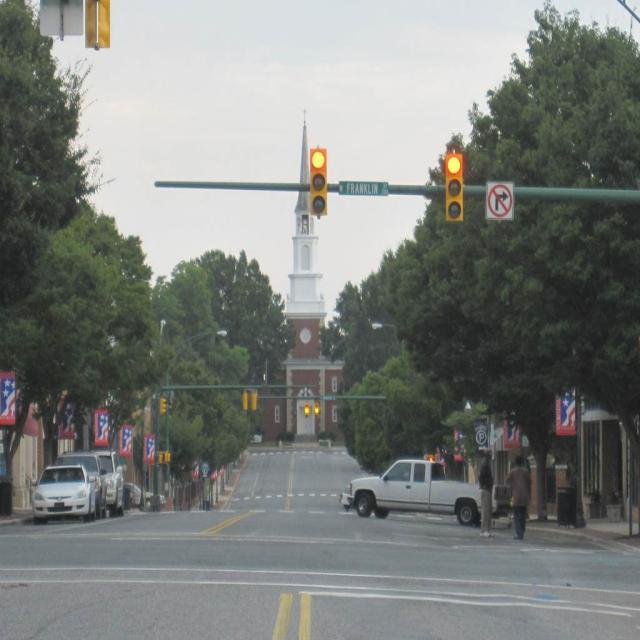road_sign: (486, 183, 514, 220)
traffic light: (310, 145, 328, 219), (446, 149, 462, 223)
